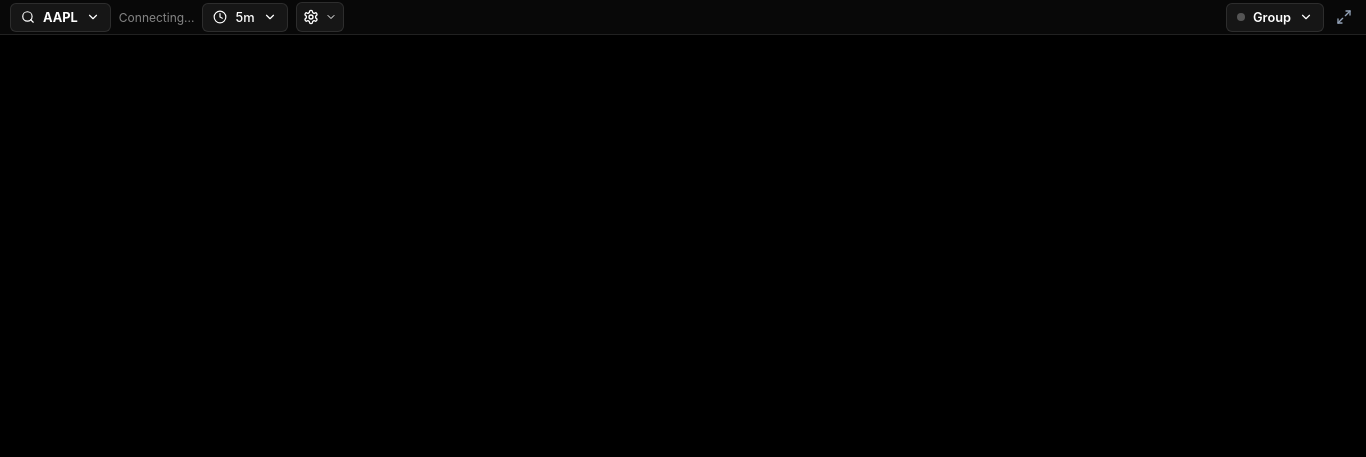
Test: ChartHeader › opens settings dropdown when clicking Settings button
This screenshot has width=1366, height=457.
Step 1. Click the icon titled "Settings & Tools" → (320, 17), box [296,2,344,32]
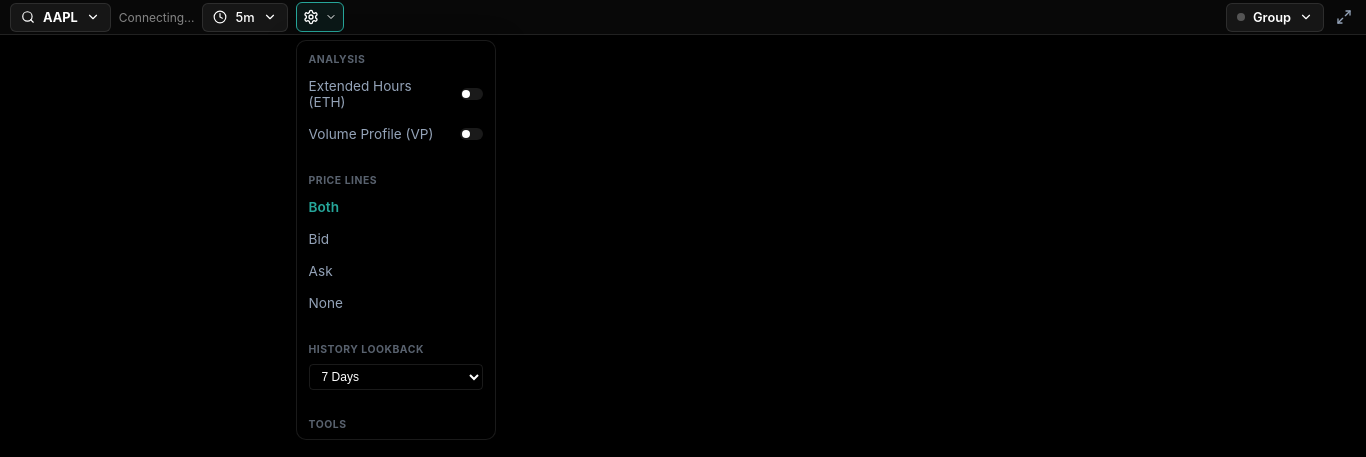
Check: the text "Analysis" is shown, box [309,53,365,66]
Check: the text "Tools" is shown, box [309,418,346,431]
